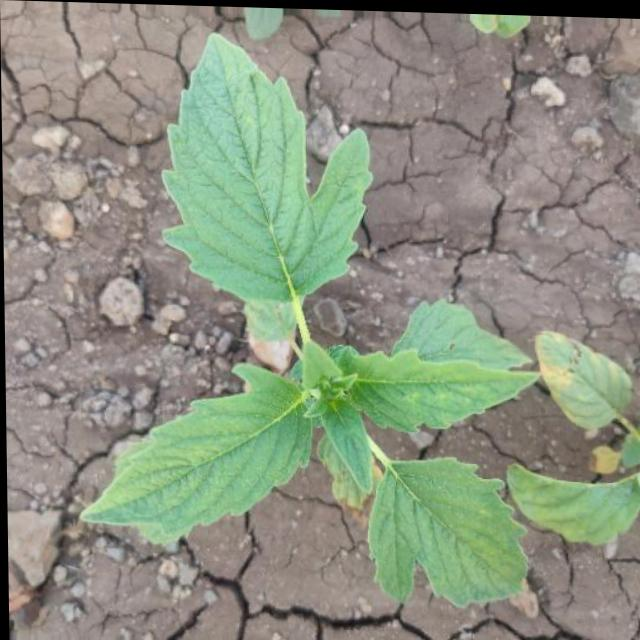crop: (59, 10, 553, 616)
